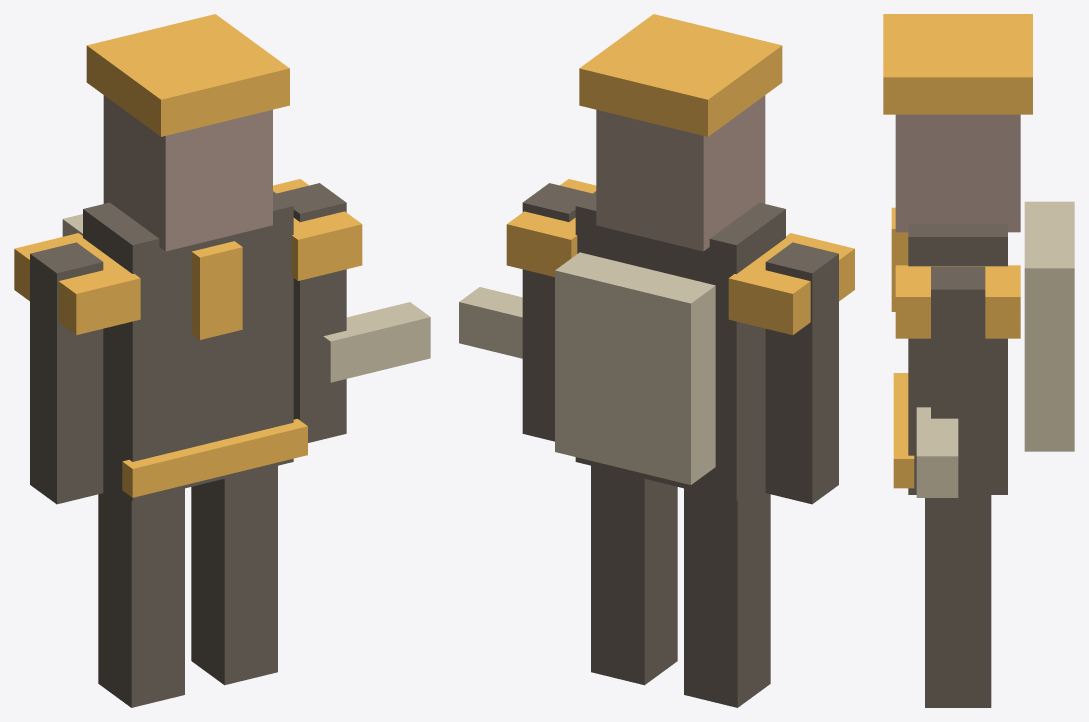
File: 13_lio_cragwarden_responder_of_observation.glb
The picture shows the model from 3 angles, left to right: view 1: azimuth 30°, elevation 25°; view 2: azimuth 150°, elevation 25°; view 3: azimuth 270°, elevation 25°; orthographic projection.
Parts seen in each view (by area): view 1: Lio Cragwarden, Responder of Observation; view 2: Lio Cragwarden, Responder of Observation; view 3: Lio Cragwarden, Responder of Observation.
Boxes of the visible parts, x1,y1,x2,y2 form: Lio Cragwarden, Responder of Observation: [14, 14, 430, 707]; Lio Cragwarden, Responder of Observation: [459, 14, 854, 707]; Lio Cragwarden, Responder of Observation: [883, 14, 1074, 707].
Size of the model in its own units: 1.04 by 1.68 by 0.4661.
